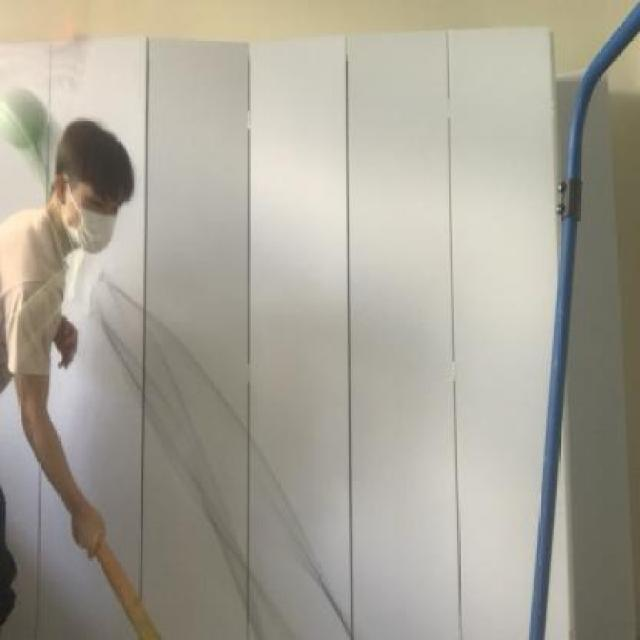baseball: (0, 86, 78, 197)
